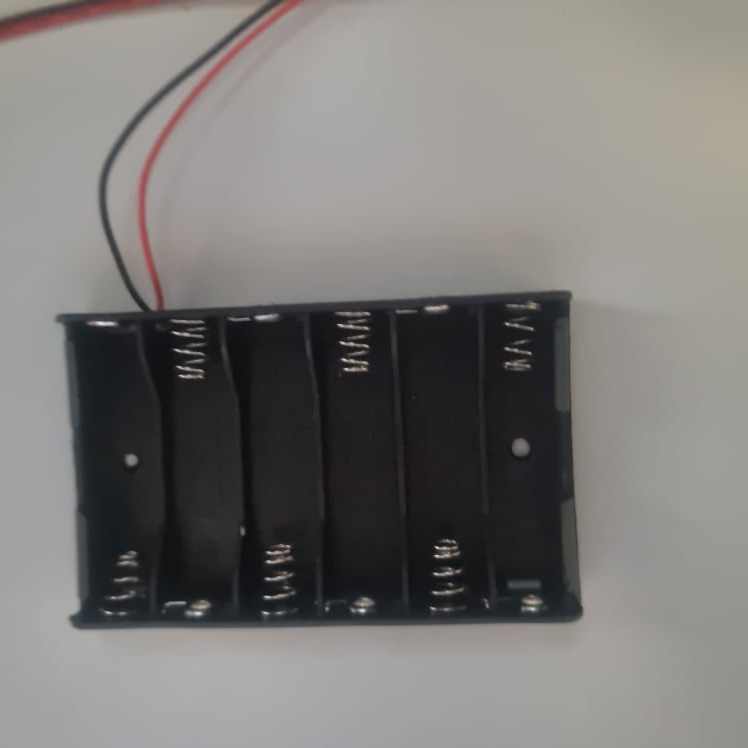BATTERY BOX: (67, 291, 584, 628)
